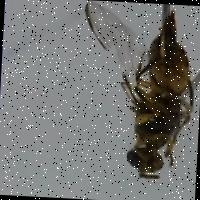Oriental-fruit-fly: (65, 0, 200, 193)
